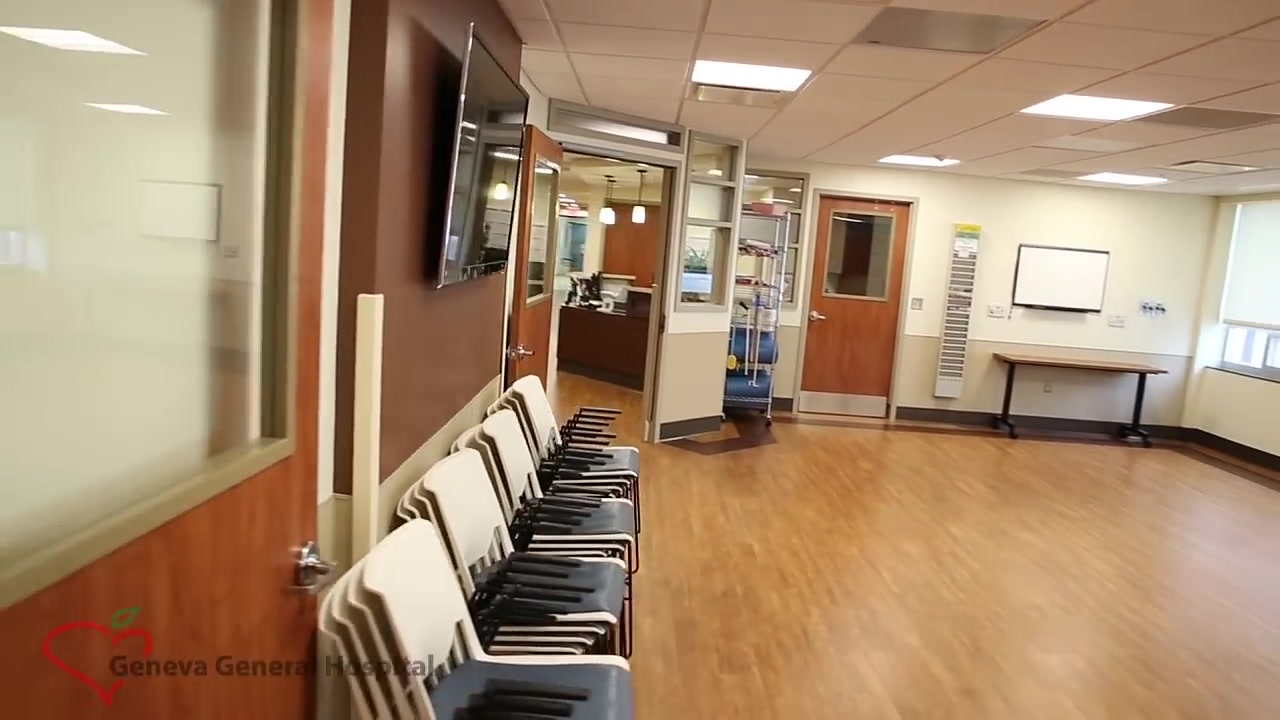TV: (435, 22, 530, 290), (1013, 243, 1110, 314)
chair: (318, 519, 633, 720), (396, 448, 634, 659), (450, 409, 639, 573), (484, 374, 642, 533)
counter: (560, 295, 644, 386)
door_handle: (288, 549, 344, 595), (521, 345, 538, 359), (809, 311, 828, 323)
table: (992, 353, 1170, 448)
